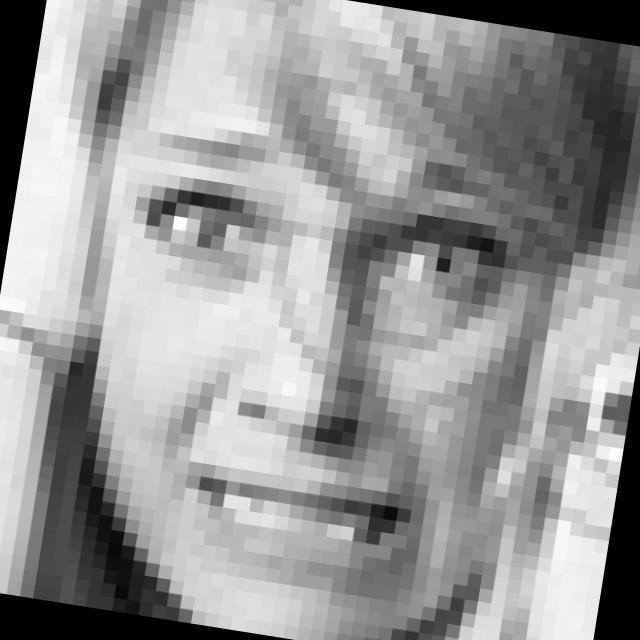fear: (73, 116, 528, 619)
